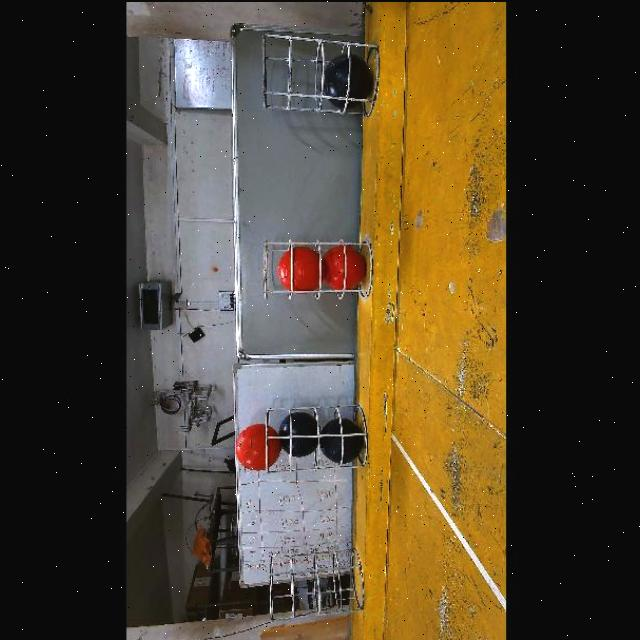P: (324, 52, 372, 109), (318, 417, 363, 463), (277, 410, 317, 456)
R: (235, 422, 281, 469), (322, 244, 366, 289), (276, 245, 319, 289)
S: (260, 31, 380, 115), (263, 406, 363, 474), (263, 238, 375, 296), (268, 552, 366, 614)
